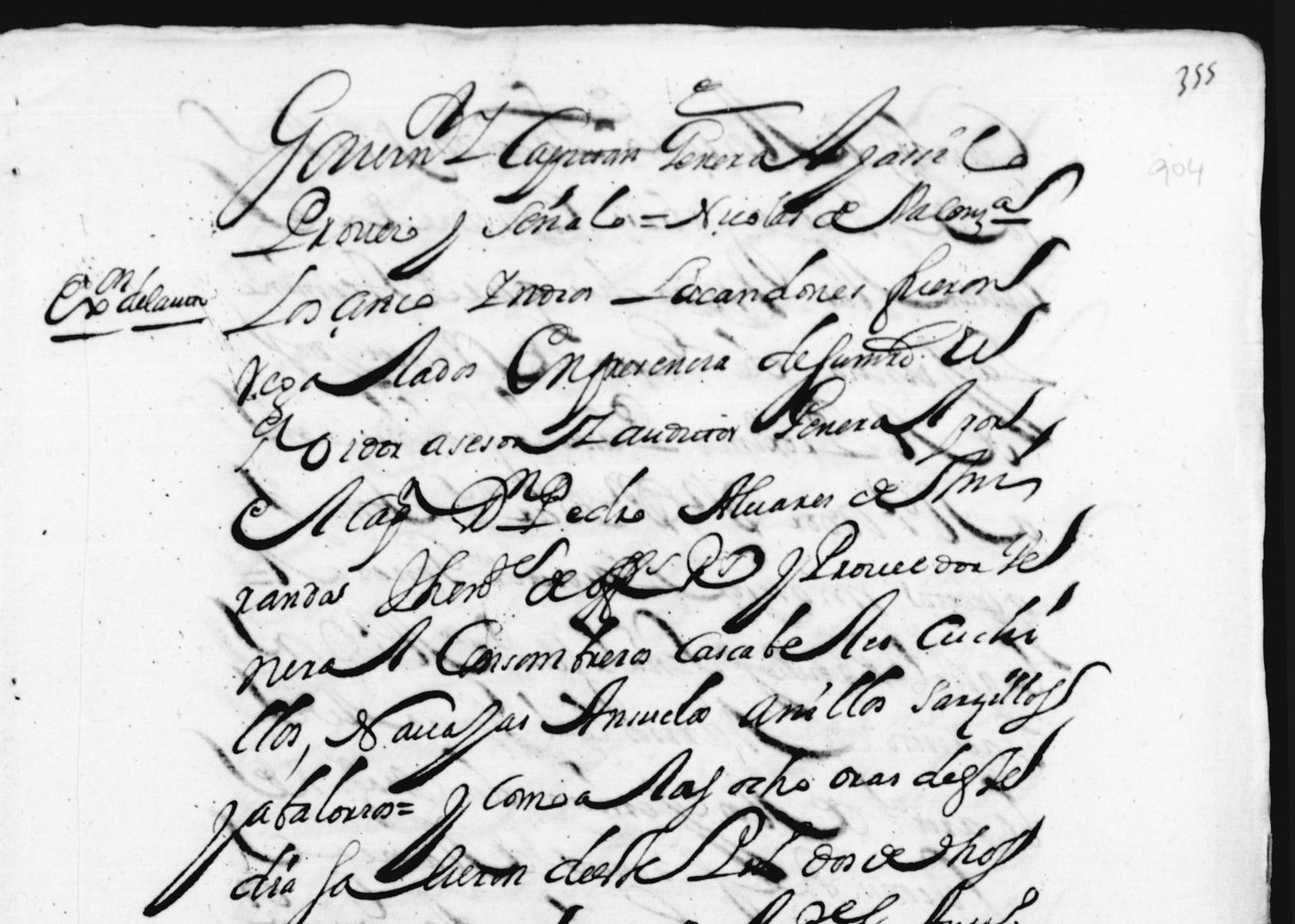lacandon: (610, 247, 865, 305)
